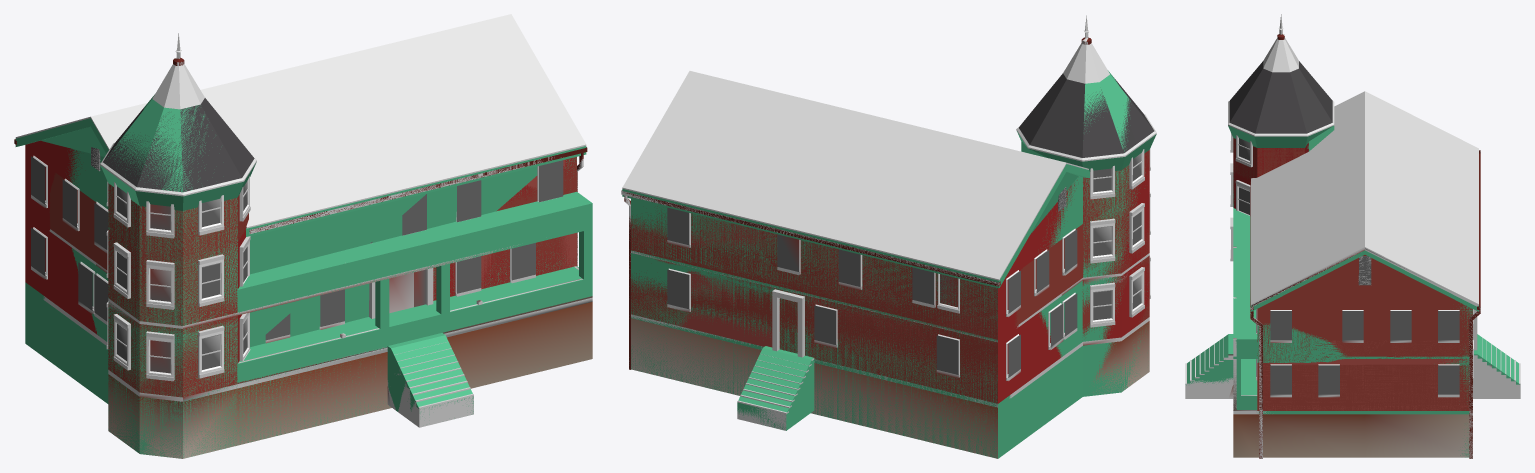
Rendered from eca_bld_ornate_01.dae.
3 renders of one model, left to right at view 1: azimuth 30°, elevation 25°; view 2: azimuth 150°, elevation 25°; view 3: azimuth 270°, elevation 25°, orthographic. The views are drawn at different scales.
Visible parts, largest first — view 1: Colmesh-1, ind_bld_a100, ind_bld_a500, ind_bld_a60; view 2: ind_bld_a500, ind_bld_a100, Colmesh-1, ind_bld_a60; view 3: ind_bld_a500, ind_bld_a100, Colmesh-1, ind_bld_a60.
Part boxes in pixels (left/top/right/bottom): Colmesh-1: left=15, top=94, right=592, bottom=458; ind_bld_a100: left=14, top=57, right=592, bottom=458; ind_bld_a500: left=15, top=14, right=586, bottom=408; ind_bld_a60: left=25, top=98, right=576, bottom=396; ind_bld_a500: left=621, top=15, right=1156, bottom=414; ind_bld_a100: left=624, top=37, right=1149, bottom=458; Colmesh-1: left=622, top=70, right=1156, bottom=458; ind_bld_a60: left=706, top=73, right=1154, bottom=403; ind_bld_a500: left=1185, top=14, right=1520, bottom=458; ind_bld_a100: left=1185, top=34, right=1520, bottom=458; Colmesh-1: left=1185, top=125, right=1519, bottom=457; ind_bld_a60: left=1229, top=61, right=1469, bottom=388.
Bounding box in the file's own units: 16.44 × 14 × 13.93.
